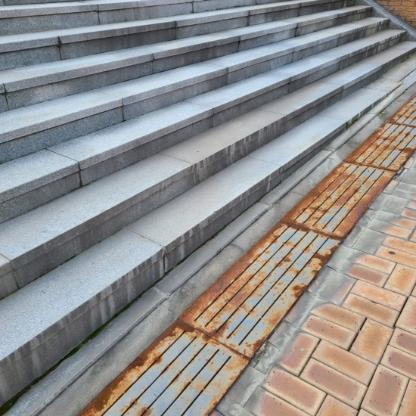stair: (0, 0, 414, 317)
